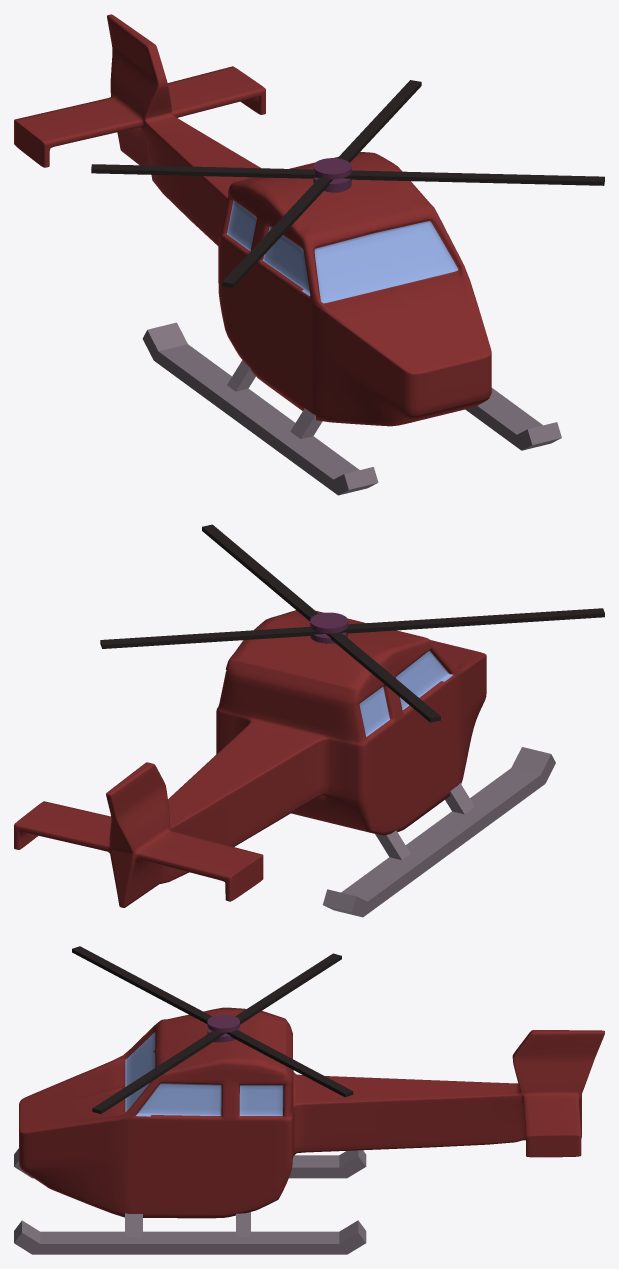
Rendered from Helicopter.glb.
3 views of the same model, one above another, from view 1: azimuth 30°, elevation 25°; view 2: azimuth 150°, elevation 25°; view 3: azimuth 270°, elevation 25° (orthographic). The views are drawn at different scales.
Parts seen in each view (by area): view 1: Cube, Cube.003, Cube.001, Cube.002, Cylinder.001; view 2: Cube, Cube.003, Cube.002, Cube.001, Cylinder.001; view 3: Cube, Cube.003, Cube.002, Cube.001, Cylinder.001.
Boxes of the visible parts, box(x1,y1,x2,y2) form: Cube: box(14, 14, 491, 426); Cube.003: box(142, 322, 561, 495); Cube.001: box(91, 164, 604, 185); Cube.002: box(222, 80, 421, 287); Cylinder.001: box(313, 158, 351, 179); Cube: box(14, 610, 486, 907); Cube.003: box(322, 747, 555, 917); Cube.002: box(100, 608, 604, 648); Cube.001: box(202, 524, 440, 722); Cylinder.001: box(310, 612, 347, 633); Cube: box(19, 1007, 604, 1218); Cube.003: box(14, 1148, 366, 1254); Cube.002: box(72, 946, 353, 1097); Cube.001: box(92, 953, 341, 1113); Cylinder.001: box(207, 1014, 239, 1032).
Bounding box in the file's own units: 5.25 × 2.81 × 7.97.
